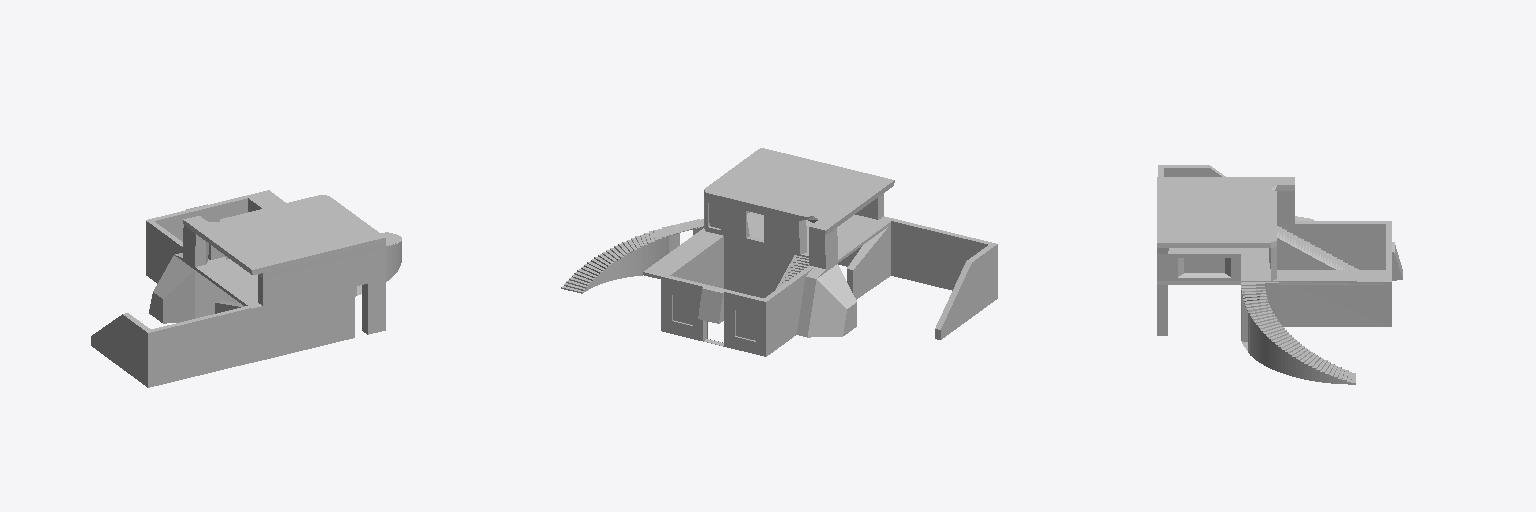
File: House v02.obj
3 views of the same model, side by side, from view 1: azimuth 30°, elevation 25°; view 2: azimuth 150°, elevation 25°; view 3: azimuth 270°, elevation 25° (orthographic).
Visible parts, largest first — view 1: House v02; view 2: House v02; view 3: House v02.
Boxes of the visible parts, x1=… form: House v02: x1=91, y1=190, x2=401, y2=387; House v02: x1=561, y1=148, x2=997, y2=356; House v02: x1=1157, y1=165, x2=1402, y2=384.
Size of the model in its own units: 32.19 by 8.53 by 20.29.